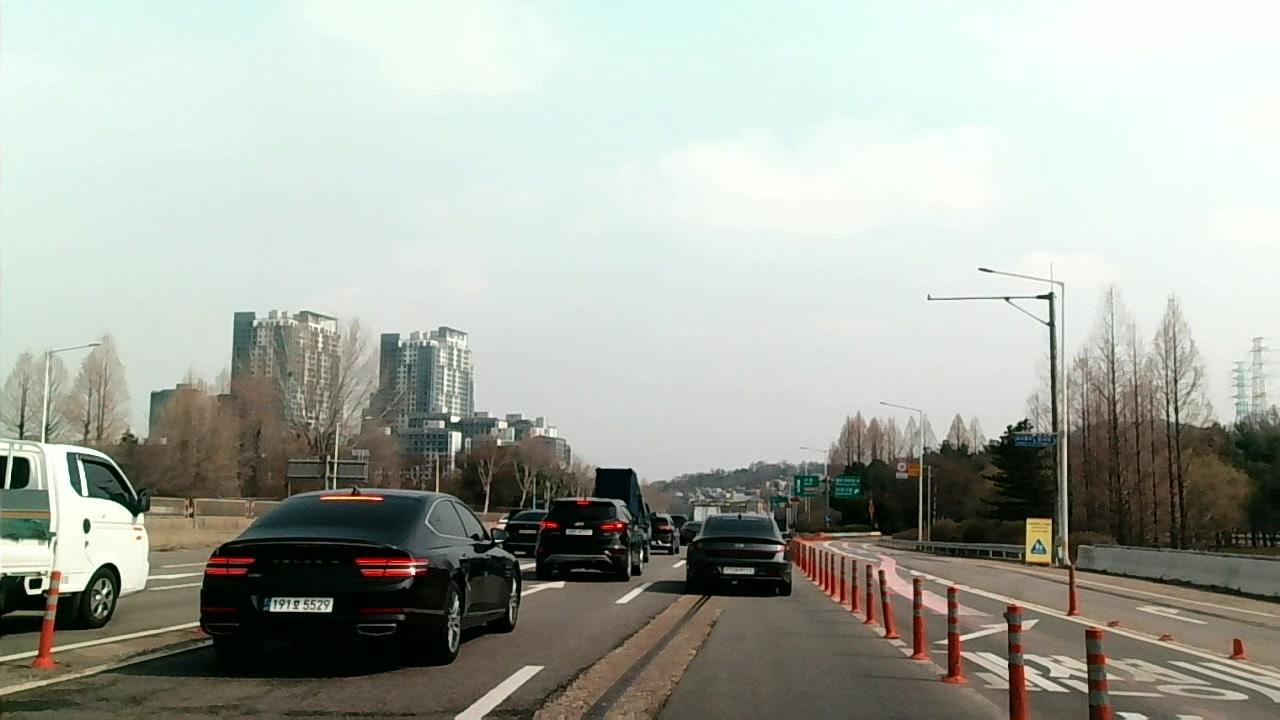stone: (1222, 636, 1251, 664), (1155, 627, 1180, 645), (1103, 616, 1130, 631)
